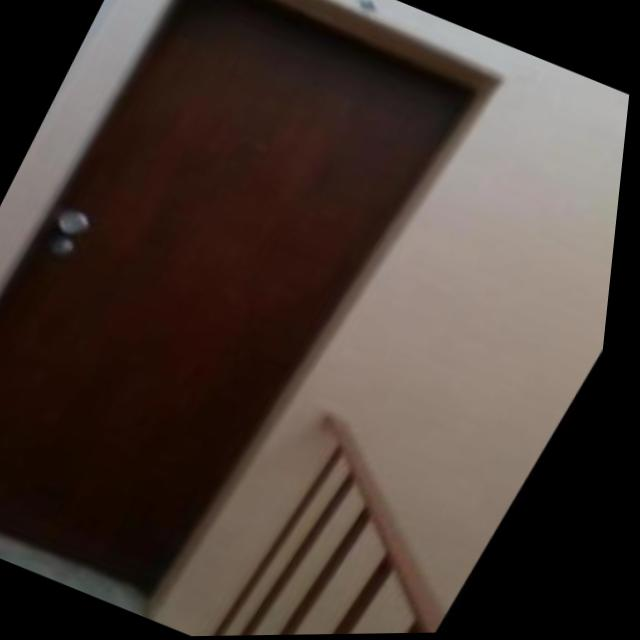door_handle: (42, 193, 123, 276)
